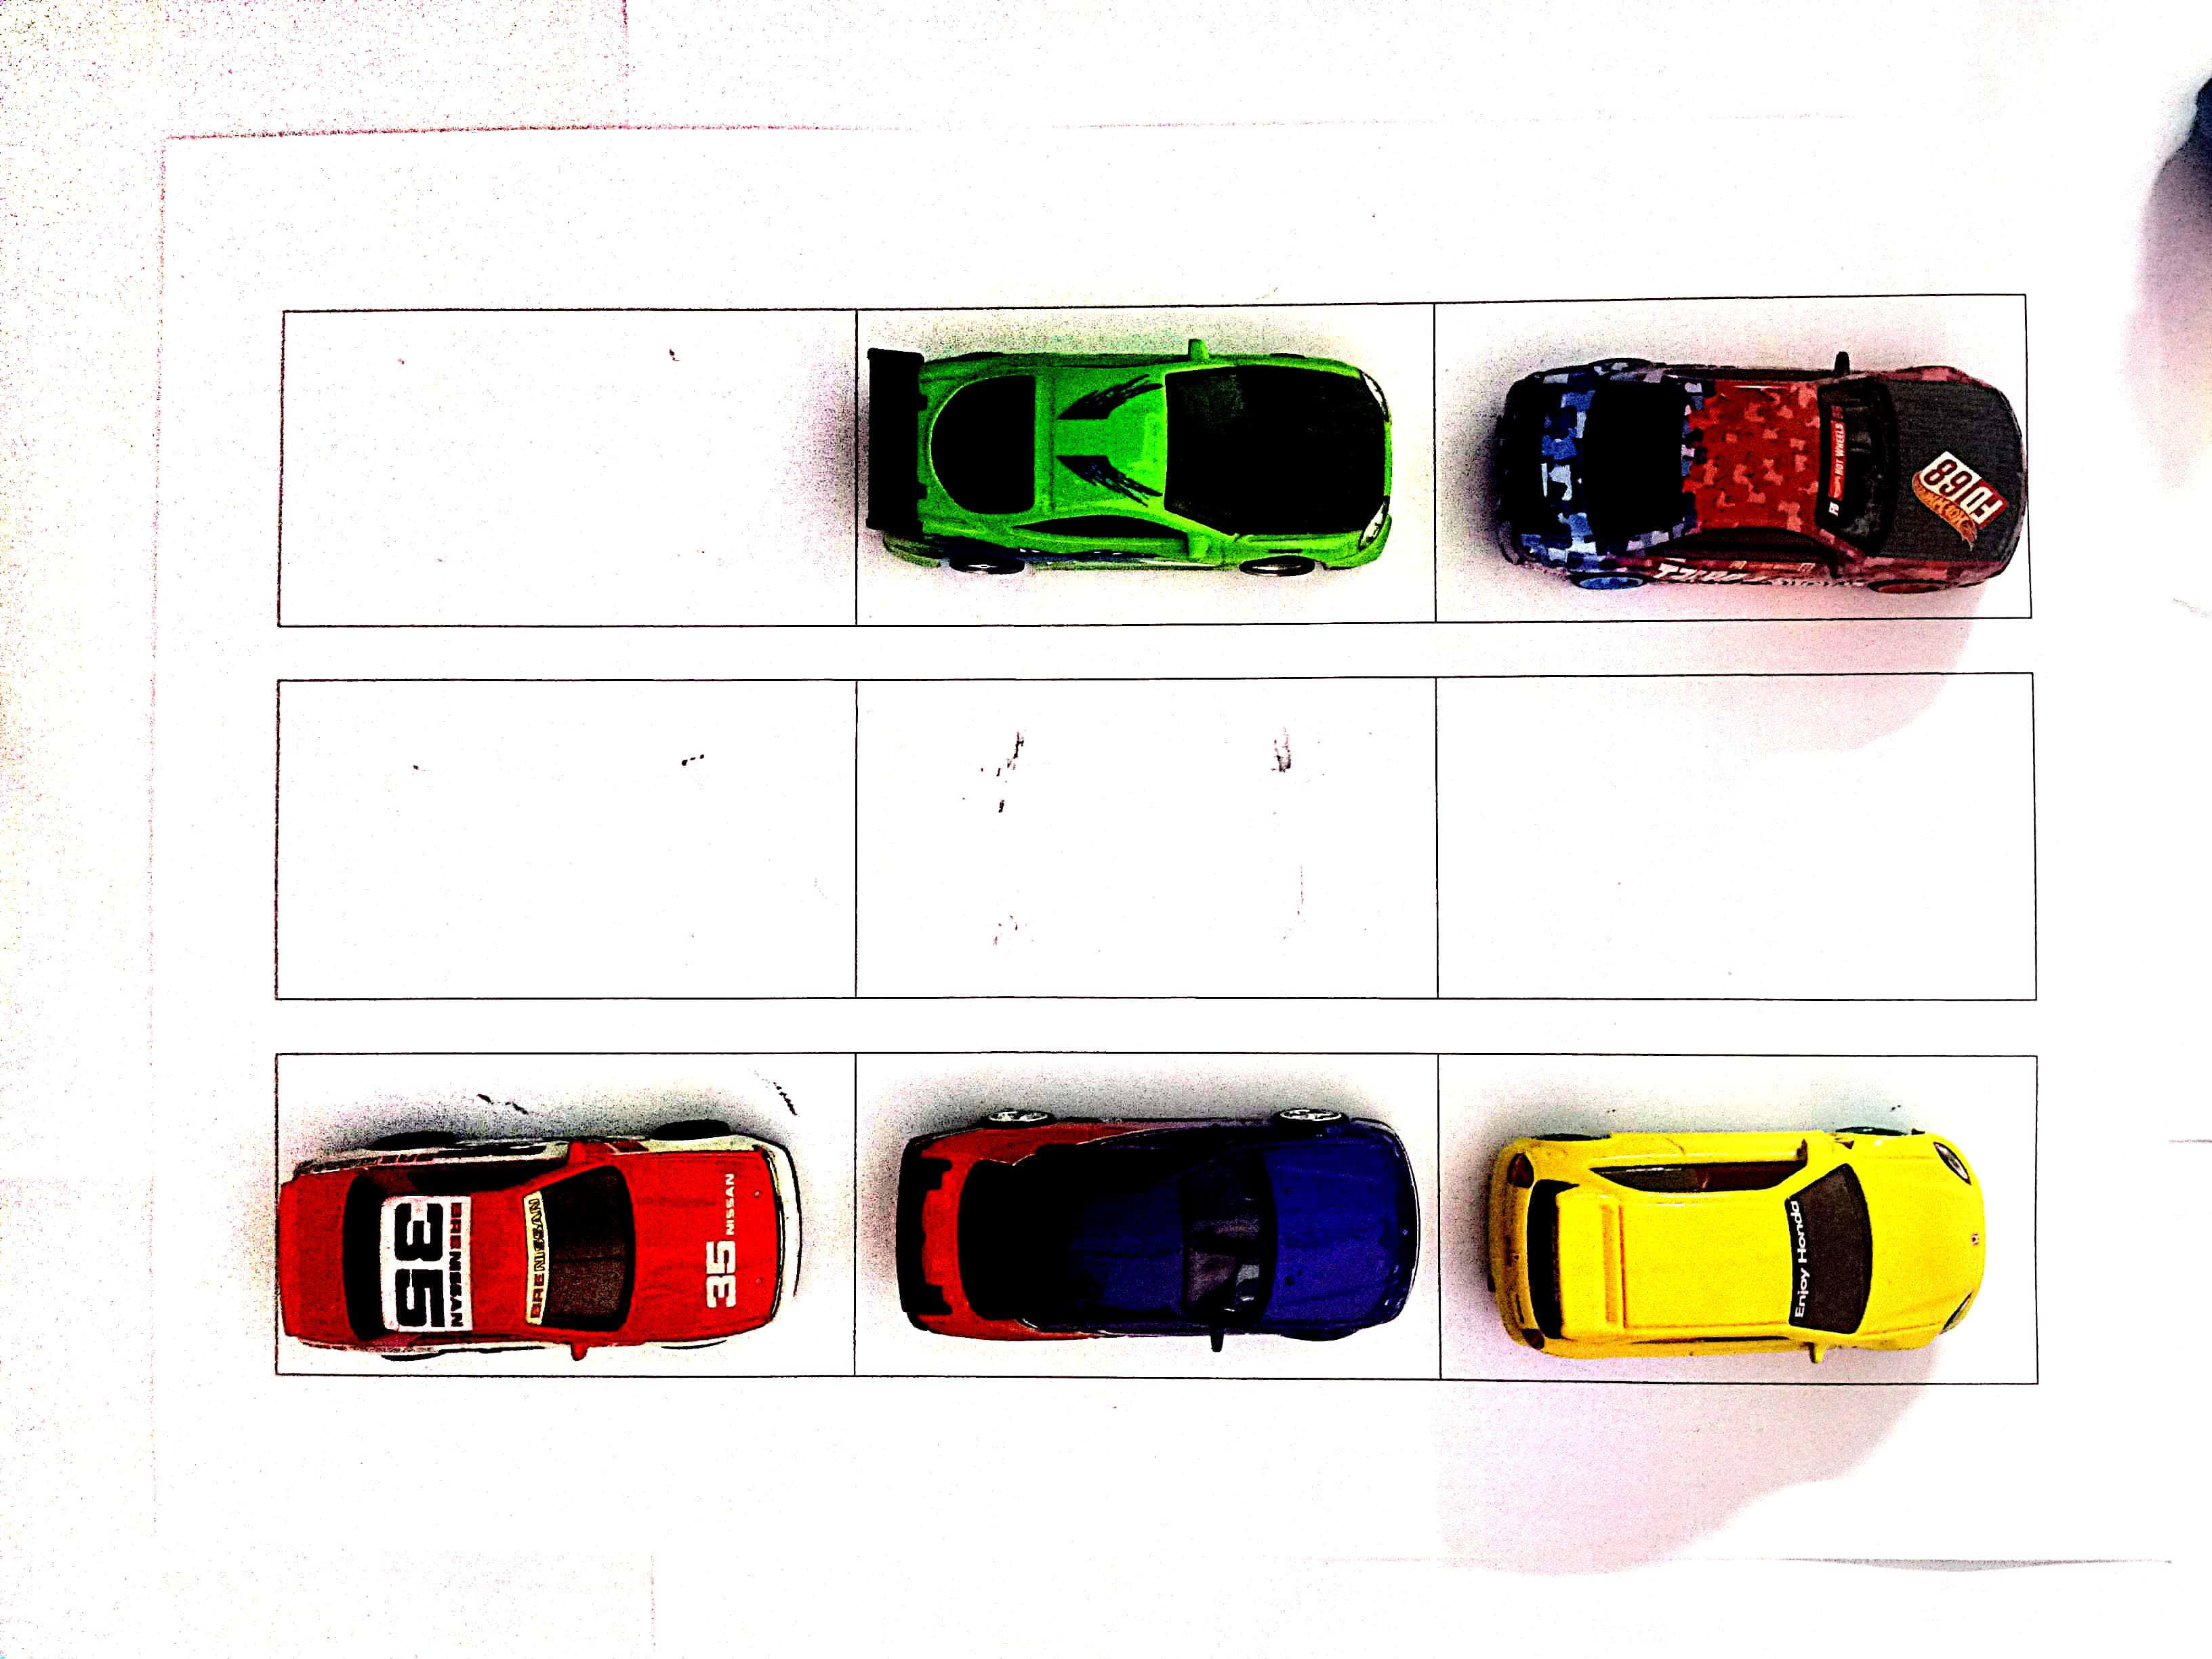Busy: (1440, 1056, 2033, 1378), (860, 1058, 1446, 1380), (860, 300, 1440, 624), (1442, 300, 2020, 619), (273, 1061, 853, 1371)
Free: (1433, 671, 2034, 1002), (277, 680, 852, 1000), (853, 680, 1432, 997), (282, 310, 853, 631)
